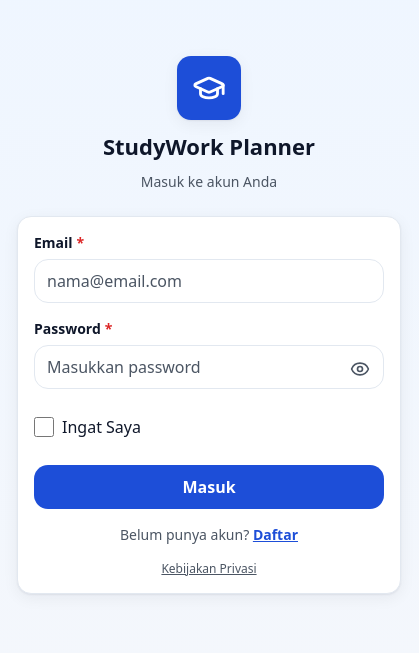
Scenario: LoginPage › menghormati Retry-After saat terkena rate limit
Type "budi@example.test" into the field labelled "Email*".
click(209, 281); type("budi@example.test")  # box [34,259,384,303]
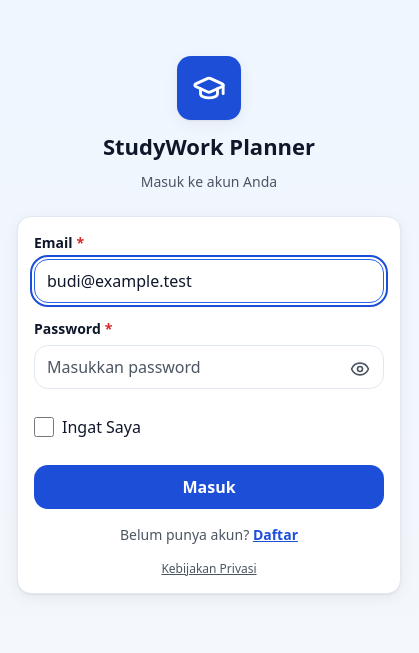
Type "PasswordKuat1" into the password field labelled "Password*".
click(209, 367); type("PasswordKuat1")  # box [34,345,384,389]
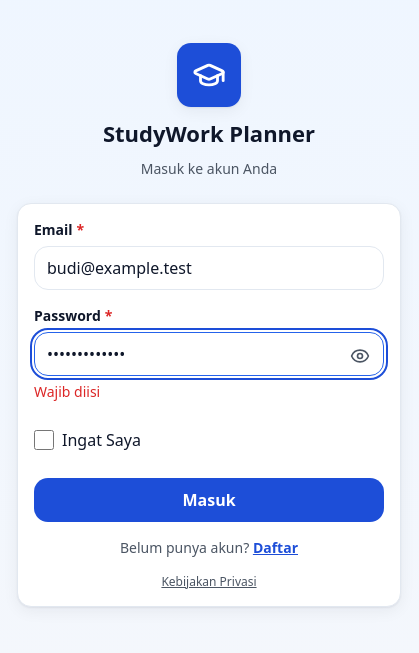
Click the button "Masuk".
click(209, 500)  # box [34,478,384,522]
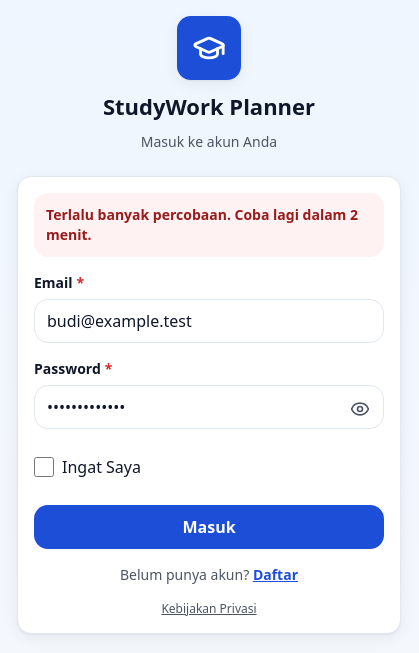
Now the text "Terlalu banyak percobaan. Coba lagi dalam 2 menit." is shown, box [34,193,384,257]
